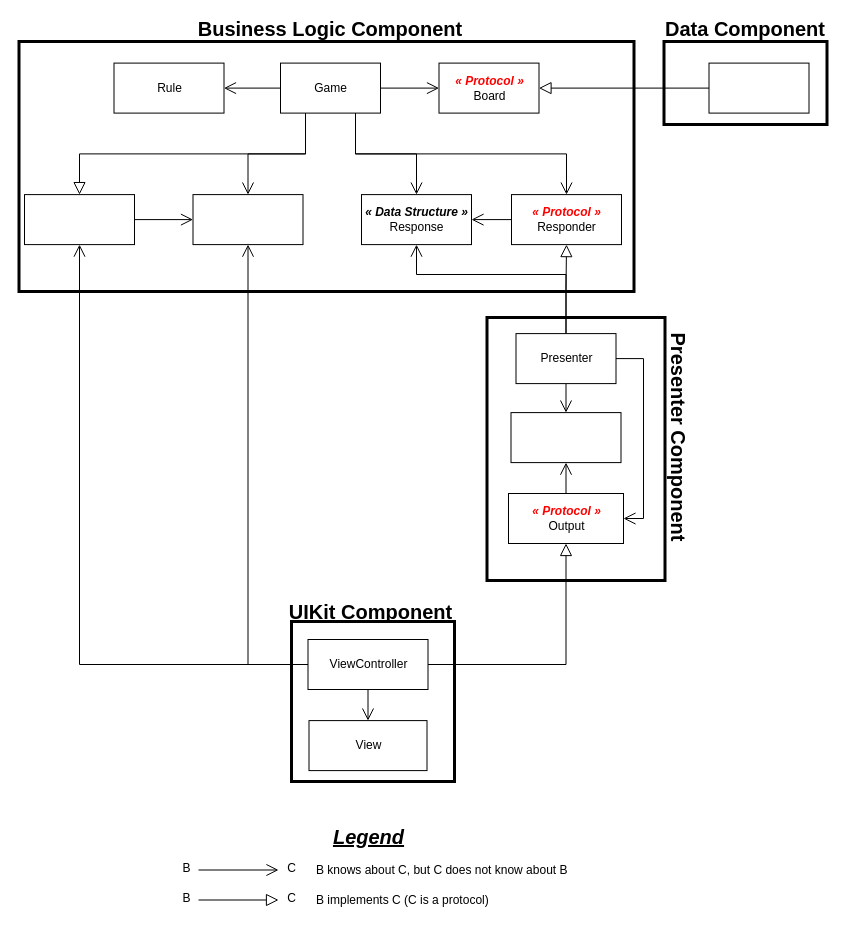
Some shapes in this 847 by 930 pixel diagram are drawn without their labels. The shapes that lost their labels are listed below. From the top down, each one's centre as x and y in pixels, then its label:
At pixel 758 87: "BoardData".
At pixel 79 219: "« Protocol » Requester".
At pixel 247 219: "« Data Structure » Request".
At pixel 565 437: "« Data Structure » View Model".
